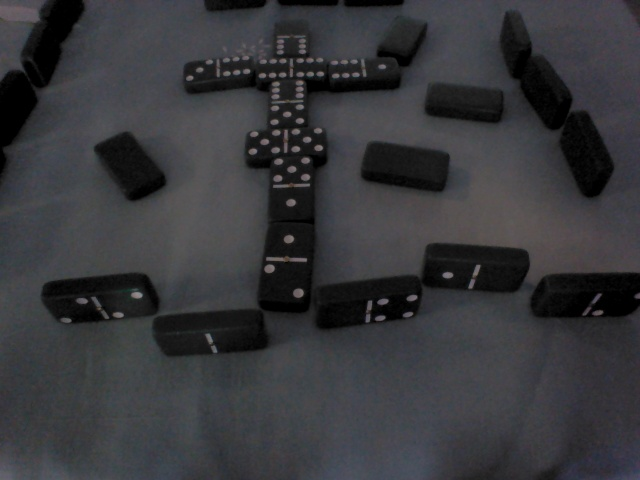A: (364, 143, 453, 192), (100, 135, 171, 194), (426, 79, 500, 124), (378, 16, 427, 59)
B: (257, 220, 317, 313), (271, 153, 315, 223), (247, 126, 329, 159), (259, 51, 330, 83), (179, 60, 253, 86), (329, 58, 403, 83), (269, 82, 309, 126), (272, 16, 308, 55)
C: (4, 71, 34, 145), (24, 21, 58, 79), (41, 2, 86, 32)
D: (562, 116, 613, 192), (524, 58, 572, 126), (503, 7, 529, 78)
E: (424, 242, 525, 294), (40, 275, 161, 318), (315, 278, 425, 325), (529, 274, 640, 319), (158, 317, 266, 353)
F: (343, 1, 405, 9), (205, 1, 267, 7), (280, 1, 333, 7)
